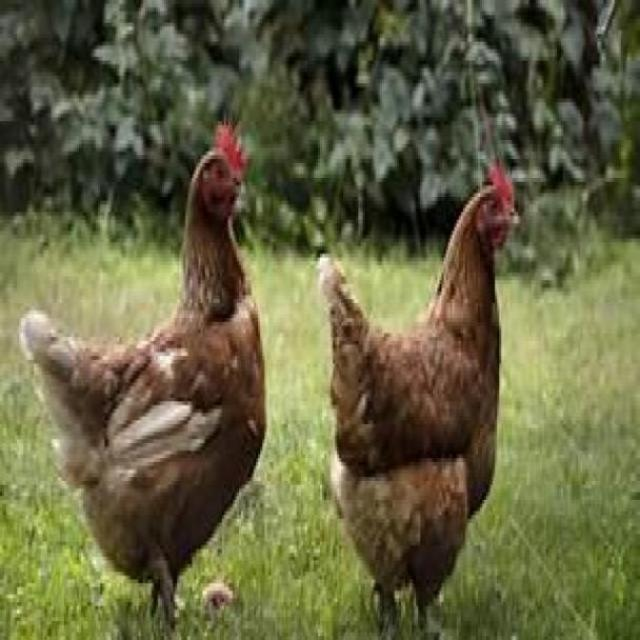Chicken: (19, 118, 267, 629), (318, 163, 523, 640)
